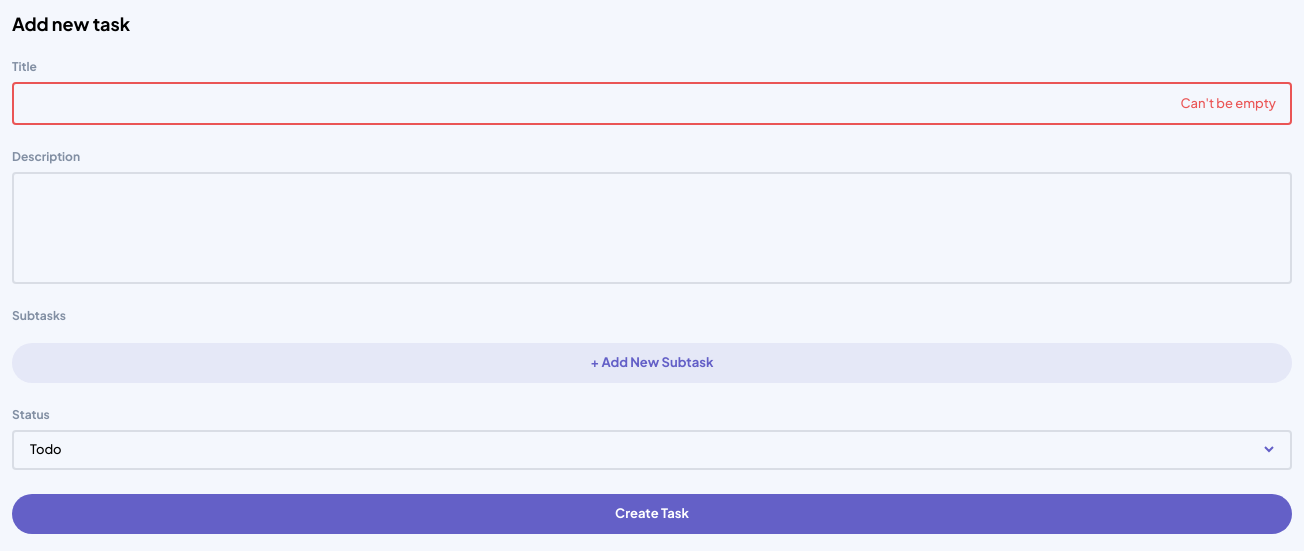
it: Given a <CreateTaskForm /> component › When we type an already defined task title on title input › It should show an alert 'Already defined'
Type "Build UI for onboarding flow" into the field named "title".
click(652, 104); type("Build UI for onboarding flow")  # box [12,82,1292,125]
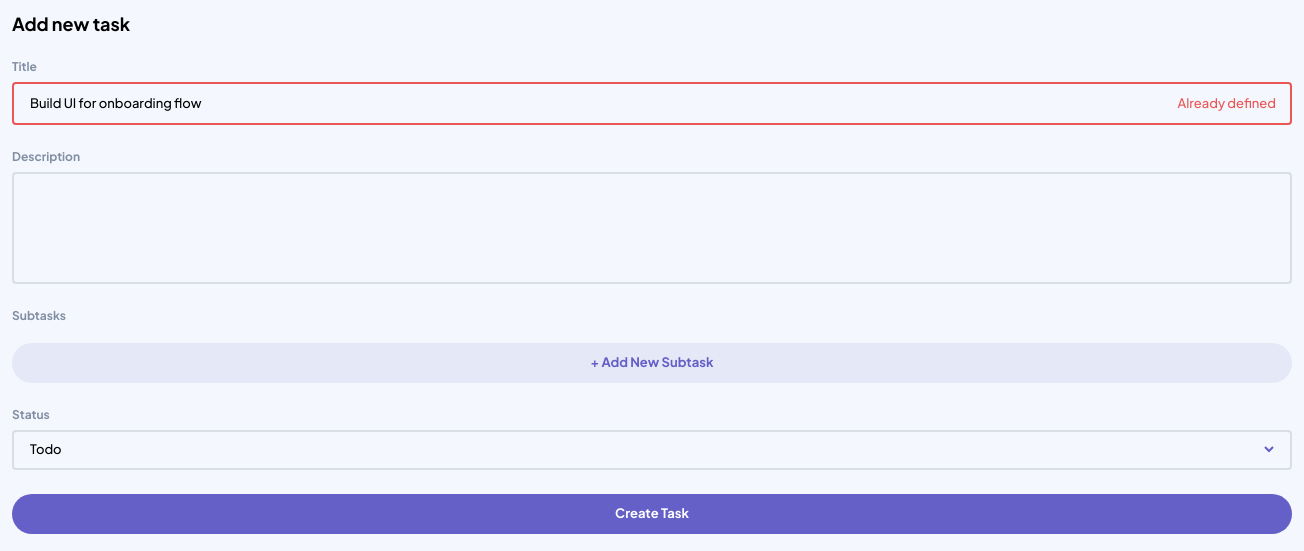
Check: the message "Already defined" is shown, box [1178,94,1276,113]
